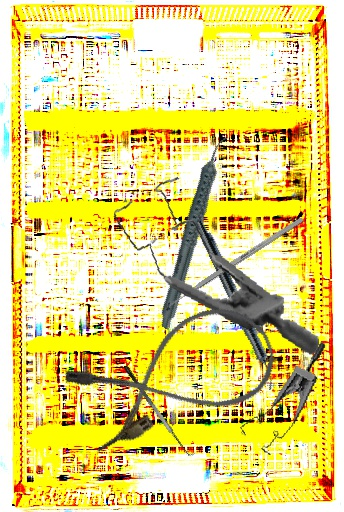Cannula: (60, 292, 287, 459)
Handpiece: (123, 134, 267, 331), (190, 218, 283, 392)
Pusher: (158, 216, 305, 314)
Spatula Surgical: (122, 359, 198, 461)
Speculum: (98, 169, 339, 356), (235, 326, 328, 463)
